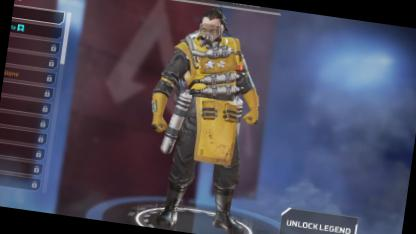Target: (159, 3, 255, 190)
